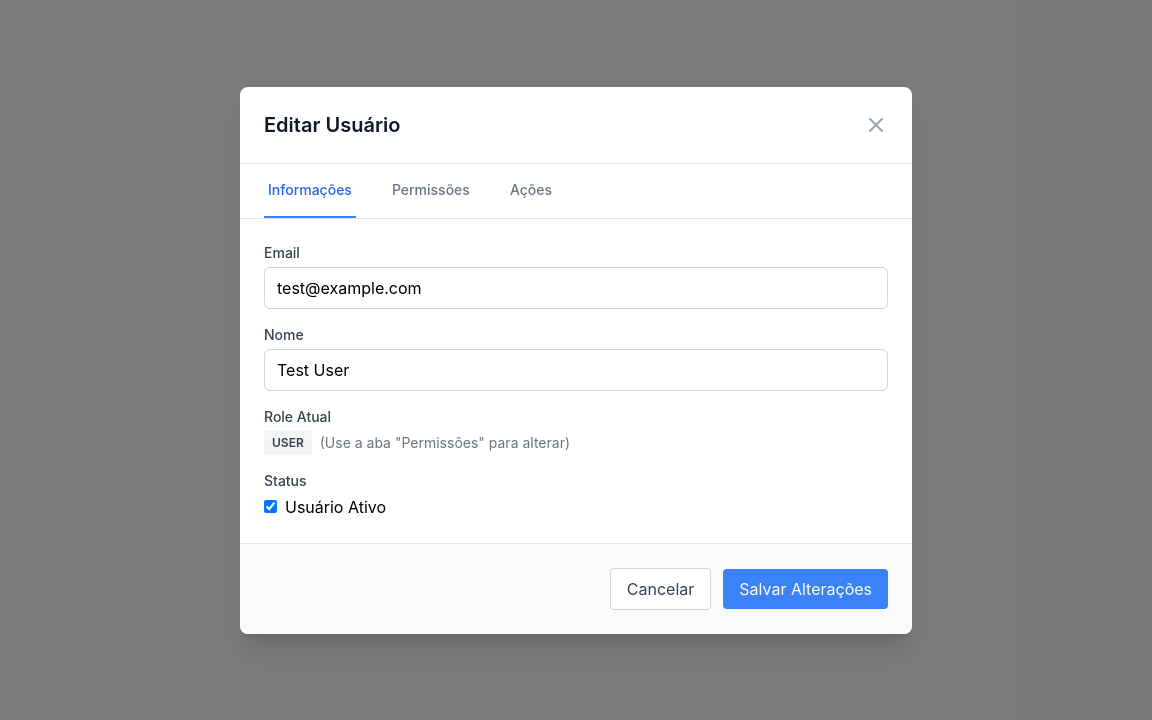
Test: EditUserModal › Navegação entre Abas › deve alternar para aba "Permissões" ao clicar
What coordinates should you click on to do the following:
click the button "Permissões"
I would click on:
 (431, 190)
Its box is [388,164,474,218].
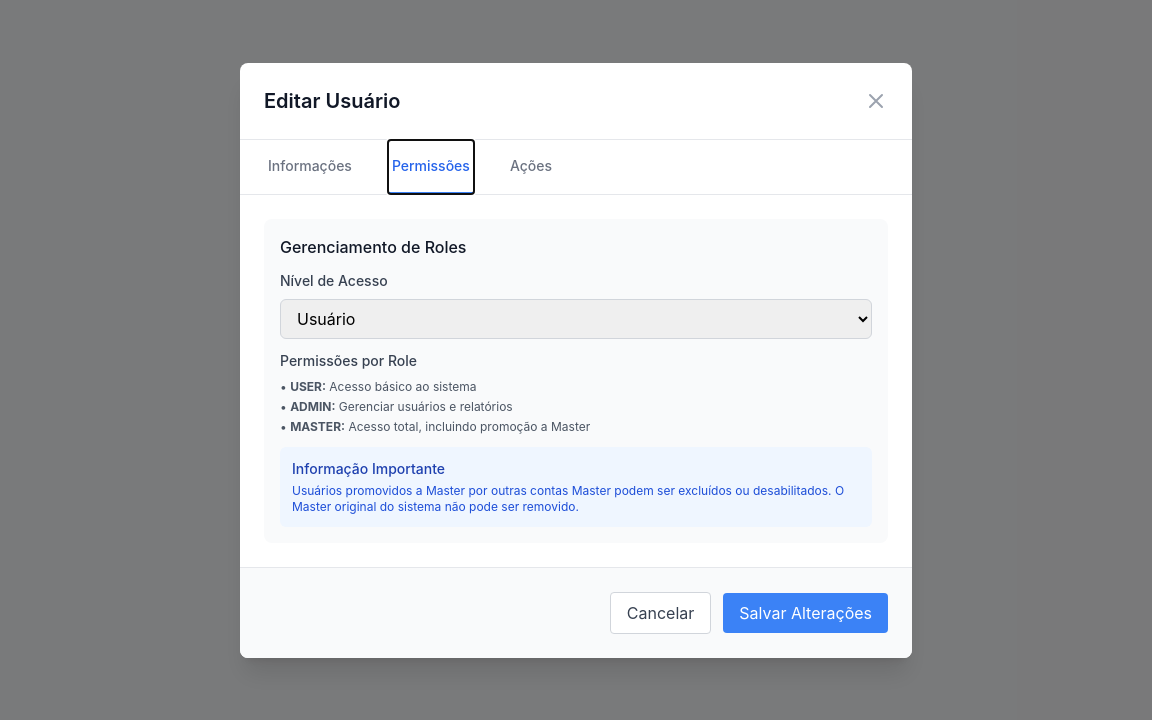
Result: the heading "Gerenciamento de Roles" is shown at [280,236,466,256]
